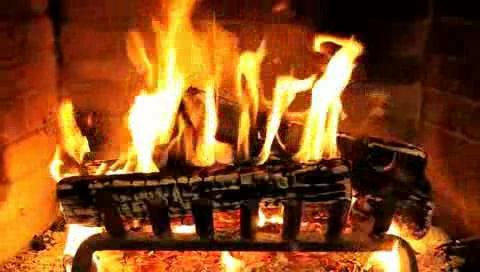fire: (55, 35, 347, 183)
